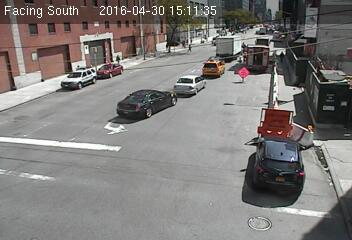neg: (214, 48, 227, 65), (265, 11, 277, 27), (150, 92, 161, 107), (173, 74, 180, 83)
pos: (111, 52, 122, 67), (275, 48, 286, 62), (185, 41, 195, 54)
